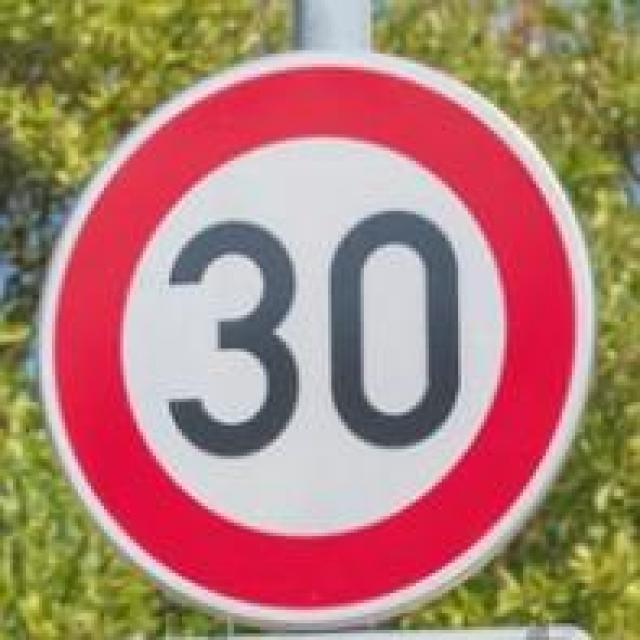speed limit 30: (38, 50, 593, 630)
